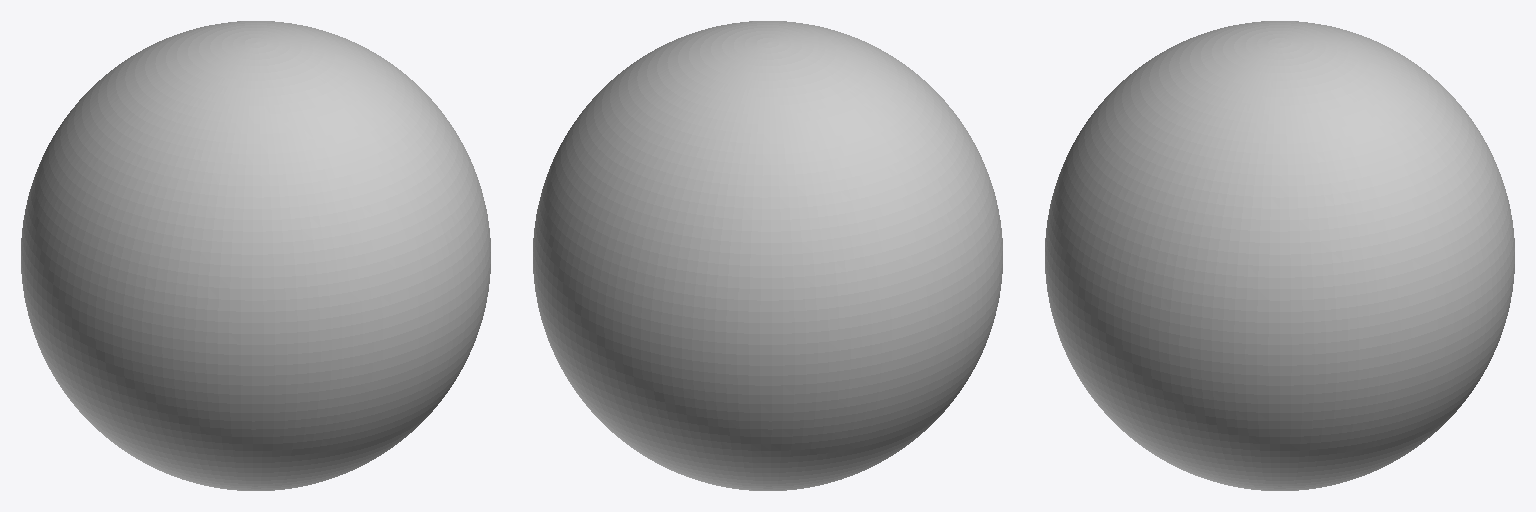
File: FFSphereUVres02.obj
3 views of the same model, side by side, from view 1: azimuth 30°, elevation 25°; view 2: azimuth 150°, elevation 25°; view 3: azimuth 270°, elevation 25° (orthographic).
Parts seen in each view (by area): view 1: Sphere; view 2: Sphere; view 3: Sphere.
Boxes of the visible parts, x1=… form: Sphere: x1=21, y1=21, x2=490, y2=490; Sphere: x1=533, y1=21, x2=1002, y2=490; Sphere: x1=1045, y1=21, x2=1514, y2=490.
Bounding box in the file's own units: 1 × 1 × 1.